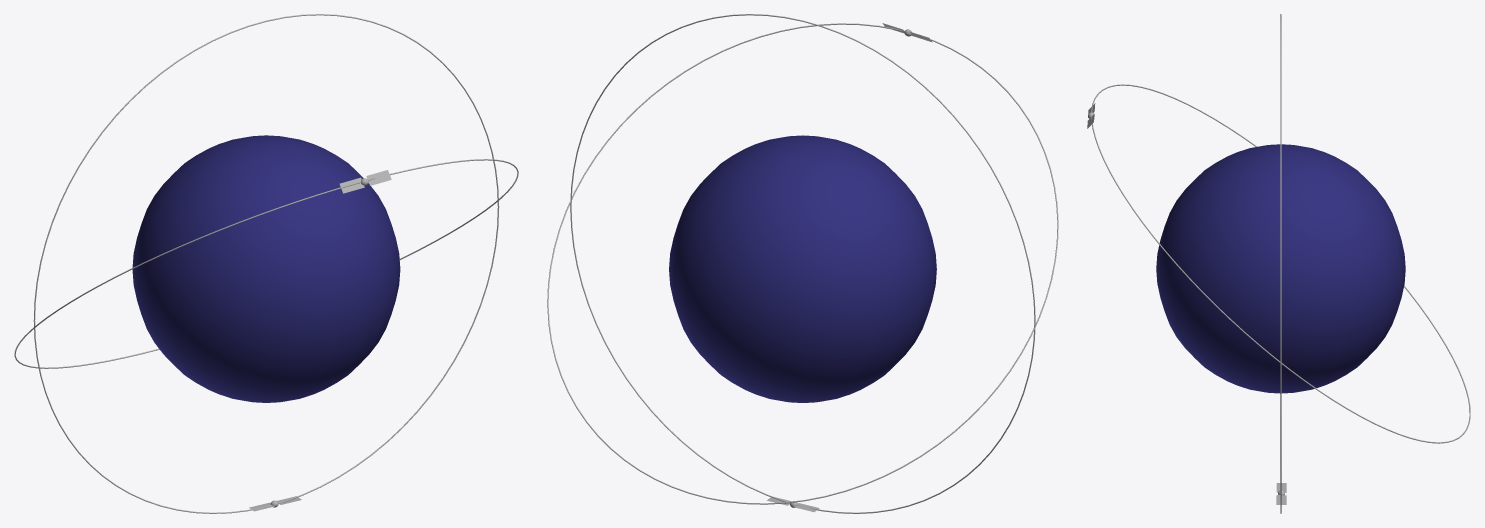
Rendered from sphere-with-satellite.obj.
The picture shows the model from 3 angles, left to right: view 1: azimuth 30°, elevation 25°; view 2: azimuth 150°, elevation 25°; view 3: azimuth 270°, elevation 25°; orthographic projection. The views are drawn at different scales.
Parts seen in each view (by area): view 1: Sphere, Torus7, Torus8; view 2: Sphere, Torus8, Torus7; view 3: Sphere, Torus8, Torus7.
Part boxes in pixels (x1,y1,x2,y2): Sphere: (132, 135, 400, 402); Torus7: (33, 14, 499, 513); Torus8: (14, 159, 518, 368); Sphere: (669, 135, 936, 402); Torus8: (547, 23, 1058, 504); Torus7: (570, 14, 1035, 513); Sphere: (1156, 144, 1405, 393); Torus8: (1091, 84, 1470, 443); Torus7: (1280, 14, 1281, 513).
Bounding box in the file's own units: 8.02 × 8.05 × 6.15.
